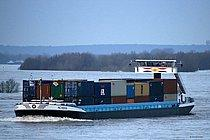Ship: (12, 55, 199, 123)
